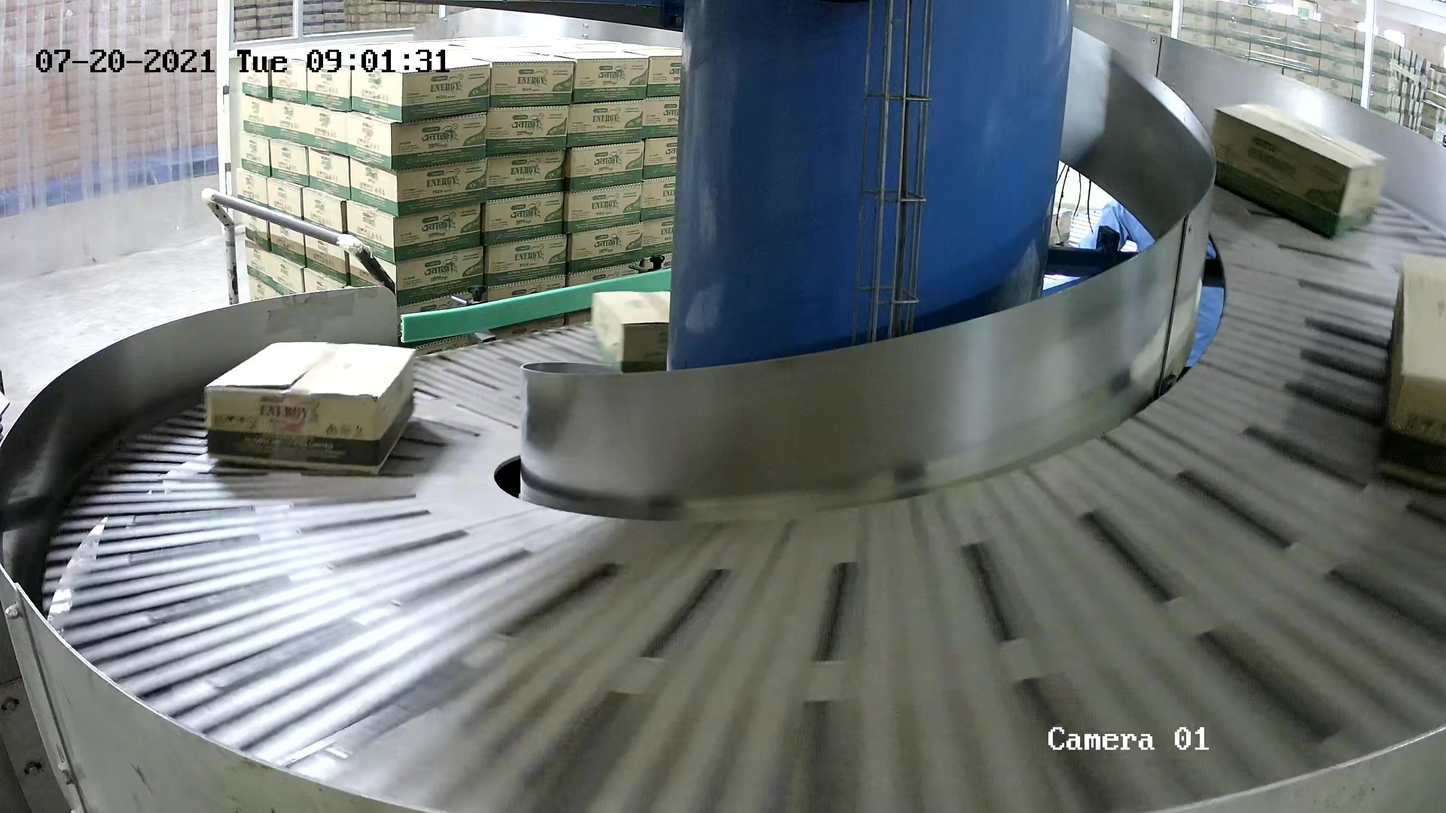Box: (204, 340, 417, 475), (1208, 101, 1387, 242), (1375, 250, 1446, 494), (589, 289, 671, 374)
